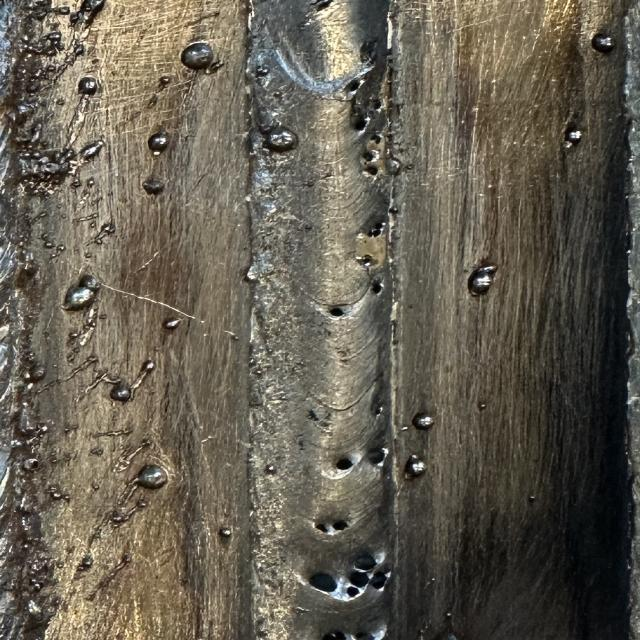Excess Reinforcement: (18, 148, 85, 194), (387, 11, 393, 48)
Porosity: (308, 572, 337, 592), (353, 554, 377, 571), (348, 571, 370, 588), (368, 571, 388, 589), (343, 76, 363, 94), (367, 448, 388, 465), (360, 40, 377, 61), (347, 632, 383, 640), (353, 115, 370, 130), (368, 222, 384, 237), (322, 631, 347, 640), (312, 0, 332, 11), (360, 51, 375, 65), (358, 254, 373, 268), (337, 458, 353, 470), (363, 151, 378, 162), (363, 165, 378, 176), (332, 520, 348, 530), (347, 586, 360, 598), (315, 524, 332, 532), (330, 308, 345, 317), (372, 134, 382, 144), (372, 99, 382, 109), (375, 405, 383, 414)
Spatters: (67, 308, 107, 361), (40, 355, 98, 391), (92, 552, 132, 595), (113, 438, 152, 472), (65, 275, 100, 310), (258, 125, 298, 152), (75, 371, 108, 402), (110, 499, 148, 525), (87, 511, 111, 551), (130, 359, 155, 397), (70, 0, 104, 26), (468, 265, 496, 296), (182, 42, 213, 69), (135, 464, 168, 489), (88, 220, 115, 243), (28, 561, 48, 592), (148, 132, 170, 155), (405, 455, 427, 478), (80, 140, 105, 159), (110, 381, 132, 402), (563, 125, 583, 148), (592, 34, 615, 52), (412, 412, 435, 429), (78, 76, 98, 95), (142, 179, 165, 194), (92, 430, 132, 438), (385, 158, 402, 175), (205, 60, 225, 74), (77, 555, 93, 571), (30, 365, 45, 382), (27, 600, 42, 617), (45, 31, 62, 46), (22, 458, 40, 471), (40, 234, 55, 249), (47, 486, 63, 500), (243, 266, 257, 282), (163, 318, 182, 329), (158, 75, 172, 89), (73, 40, 85, 56), (77, 212, 98, 221), (255, 66, 270, 78), (417, 626, 430, 639), (218, 528, 232, 540), (147, 94, 158, 108), (43, 45, 57, 56), (53, 6, 70, 15), (372, 281, 383, 294), (265, 464, 277, 475), (40, 64, 55, 71), (90, 448, 103, 456), (63, 454, 75, 462), (388, 206, 400, 214), (88, 220, 97, 229), (55, 98, 65, 106), (250, 356, 257, 367), (478, 401, 487, 409), (22, 540, 30, 549), (53, 562, 63, 569), (87, 178, 95, 186), (273, 91, 282, 98), (528, 496, 537, 503), (445, 611, 452, 619), (92, 484, 100, 491), (57, 244, 65, 251), (50, 251, 58, 258), (60, 211, 68, 218), (55, 204, 62, 208), (430, 578, 437, 582)
